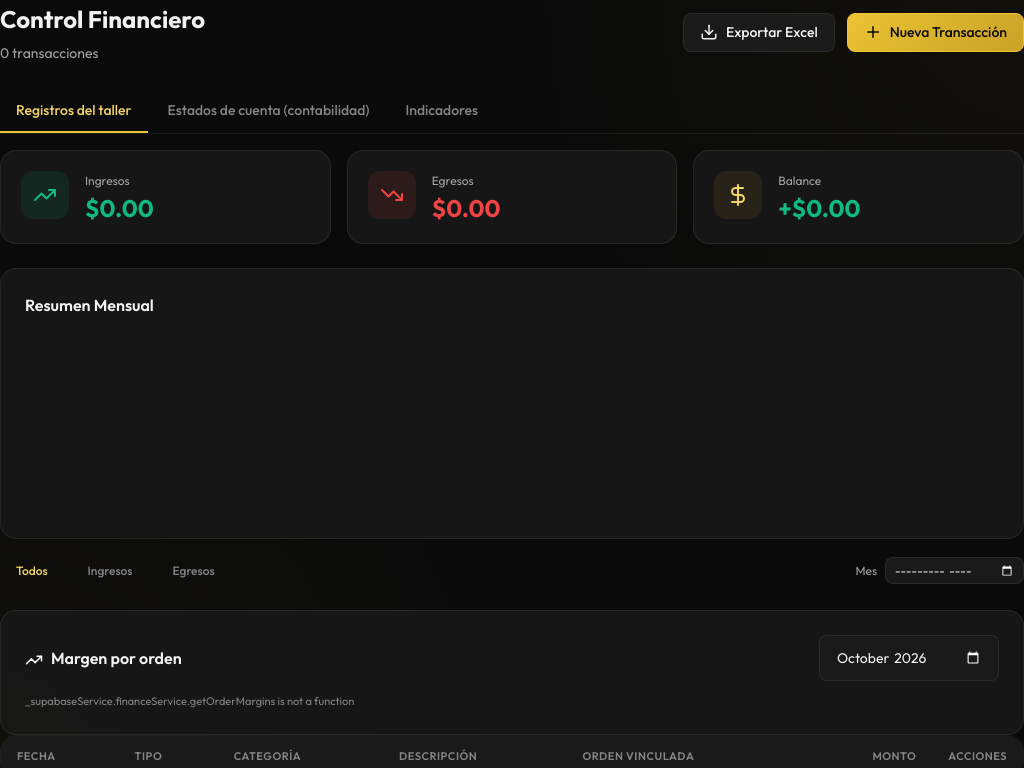
Test: Linking a manual movement to a work order › explains a missing description instead of doing nothing
Click the button "Nueva Transacción" at (935, 32), box [847,13,1023,52]
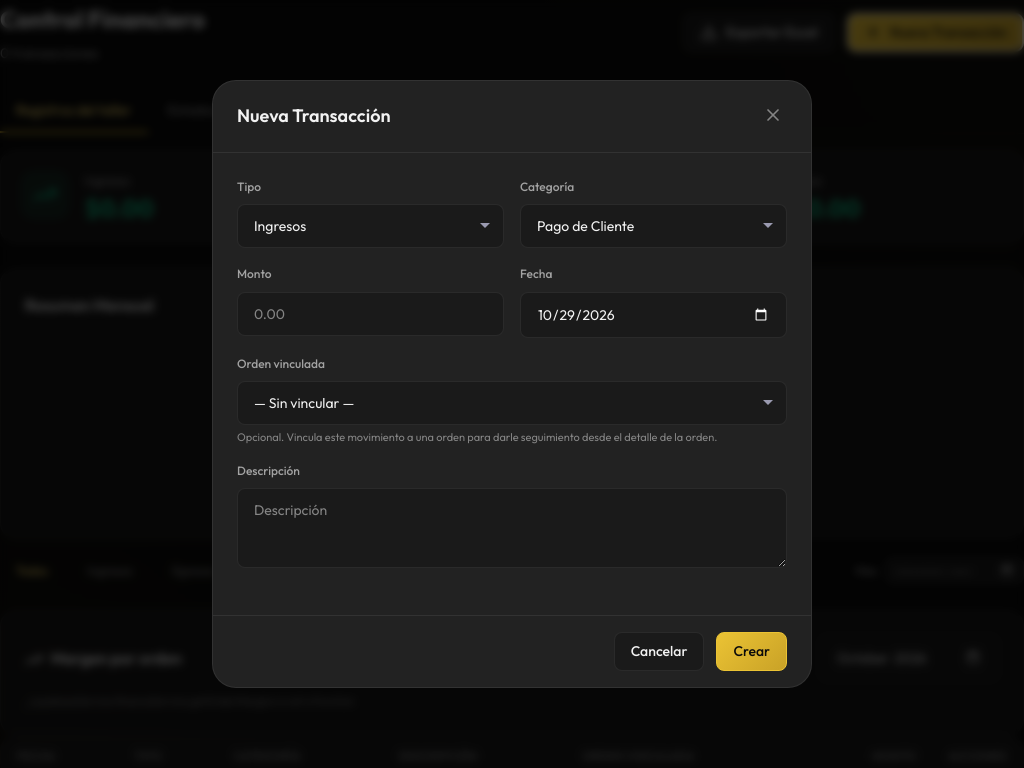
Type "250" into the number field with placeholder "0.00" at (370, 314), box [237,292,504,336]
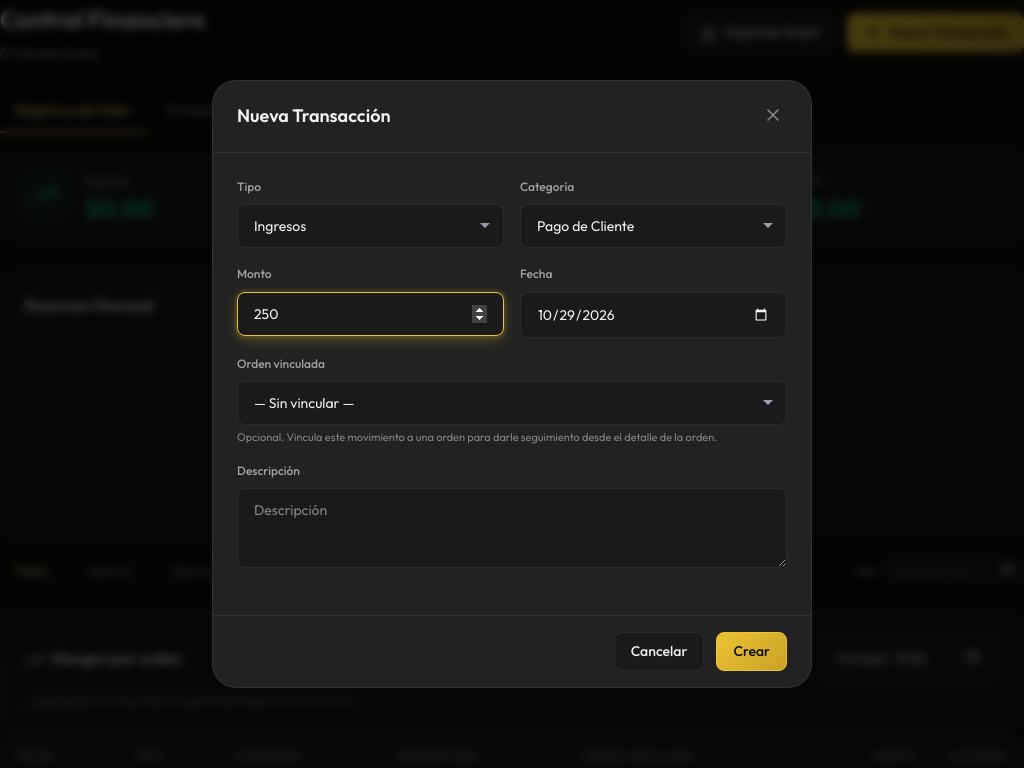
Click the button "Crear" at (752, 651), box [716,632,787,671]
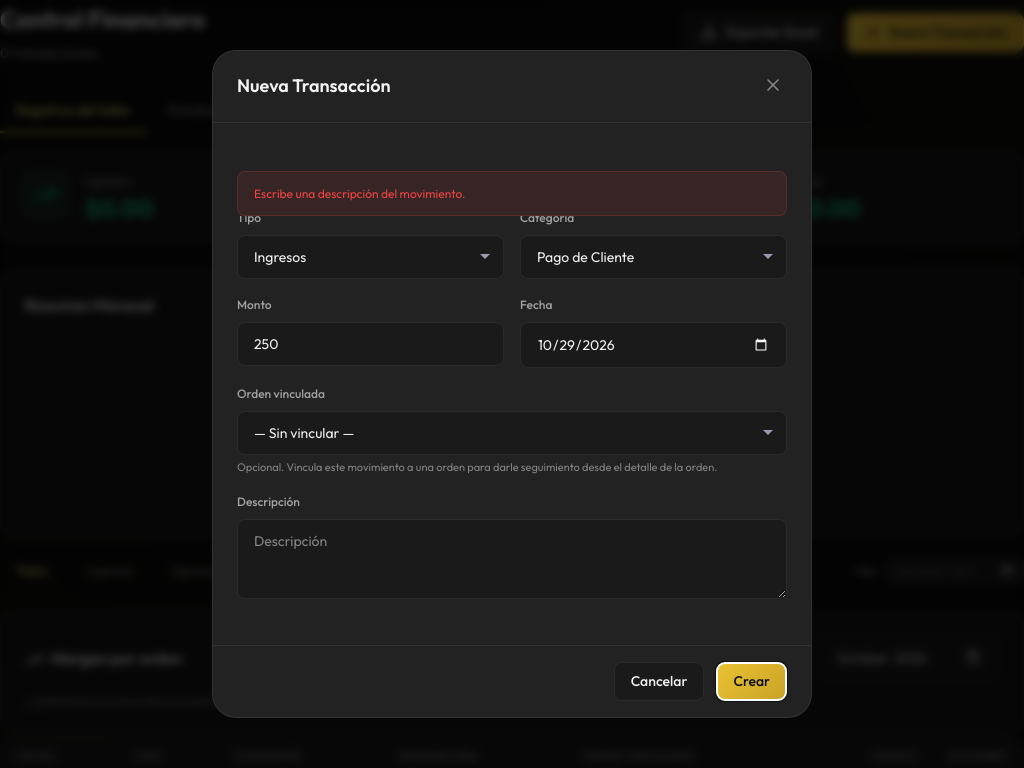
Result: the message shows "descripción" at [254,186,465,201]
